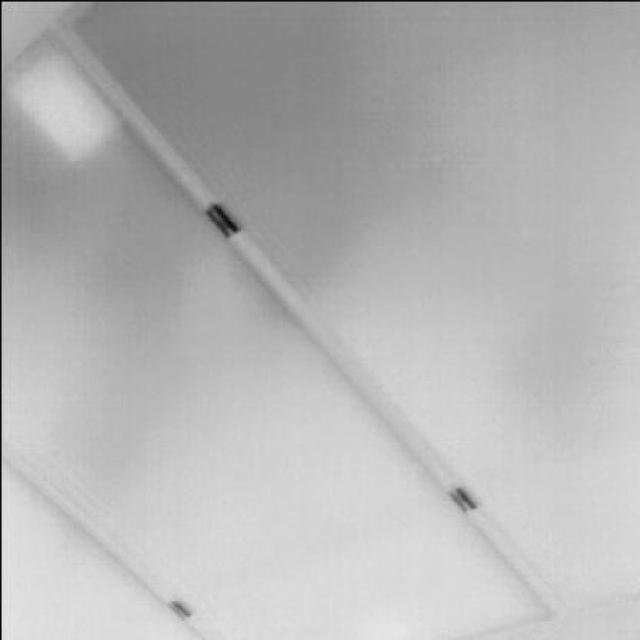hotspot: (2, 48, 136, 168)
